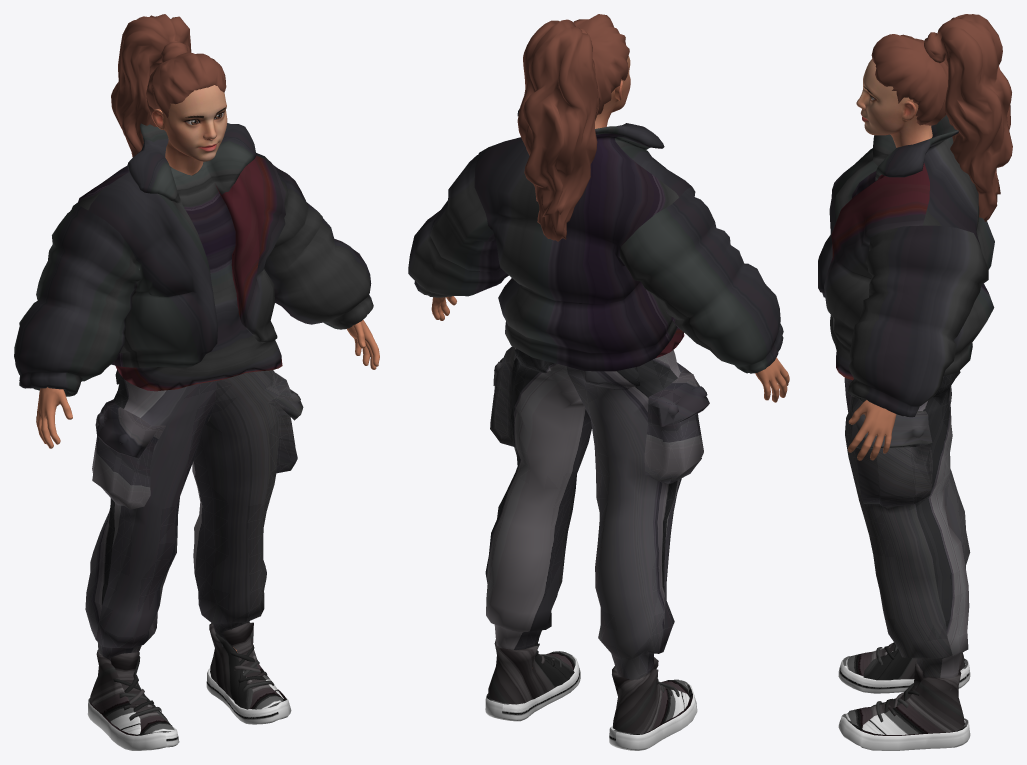
Rendered from avatar.gltf.
3 views of the same model, side by side, from view 1: azimuth 30°, elevation 25°; view 2: azimuth 150°, elevation 25°; view 3: azimuth 270°, elevation 25° (orthographic). The views are drawn at different scales.
Parts seen in each view (by area): view 1: Wolf3D_Outfit_Top, Wolf3D_Outfit_Bottom, Wolf3D_Outfit_Footwear, Wolf3D_Hair, Wolf3D_Head, Wolf3D_Body; view 2: Wolf3D_Outfit_Top, Wolf3D_Outfit_Bottom, Wolf3D_Hair, Wolf3D_Outfit_Footwear, Wolf3D_Body, Wolf3D_Head; view 3: Wolf3D_Outfit_Top, Wolf3D_Outfit_Bottom, Wolf3D_Hair, Wolf3D_Outfit_Footwear, Wolf3D_Head, Wolf3D_Body.
Boxes of the visible parts, left/top/right/bottom form: Wolf3D_Outfit_Top: left=14, top=123, right=373, bottom=396; Wolf3D_Outfit_Bottom: left=85, top=369, right=303, bottom=660; Wolf3D_Outfit_Footwear: left=87, top=622, right=291, bottom=750; Wolf3D_Hair: left=111, top=14, right=226, bottom=157; Wolf3D_Head: left=152, top=85, right=227, bottom=175; Wolf3D_Body: left=36, top=320, right=379, bottom=652; Wolf3D_Outfit_Top: left=408, top=108, right=783, bottom=373; Wolf3D_Outfit_Bottom: left=485, top=346, right=709, bottom=679; Wolf3D_Hair: left=517, top=14, right=629, bottom=241; Wolf3D_Outfit_Footwear: left=485, top=639, right=697, bottom=750; Wolf3D_Body: left=431, top=296, right=789, bottom=402; Wolf3D_Head: left=595, top=56, right=630, bottom=128; Wolf3D_Outfit_Top: left=818, top=115, right=994, bottom=417; Wolf3D_Outfit_Bottom: left=844, top=371, right=970, bottom=690; Wolf3D_Hair: left=871, top=14, right=1012, bottom=221; Wolf3D_Outfit_Footwear: left=838, top=642, right=970, bottom=750; Wolf3D_Head: left=856, top=59, right=932, bottom=147; Wolf3D_Body: left=848, top=400, right=896, bottom=460.
Size of the model in its own units: 0.9562 by 1.82 by 0.4626.
9 materials, 9 textured.
